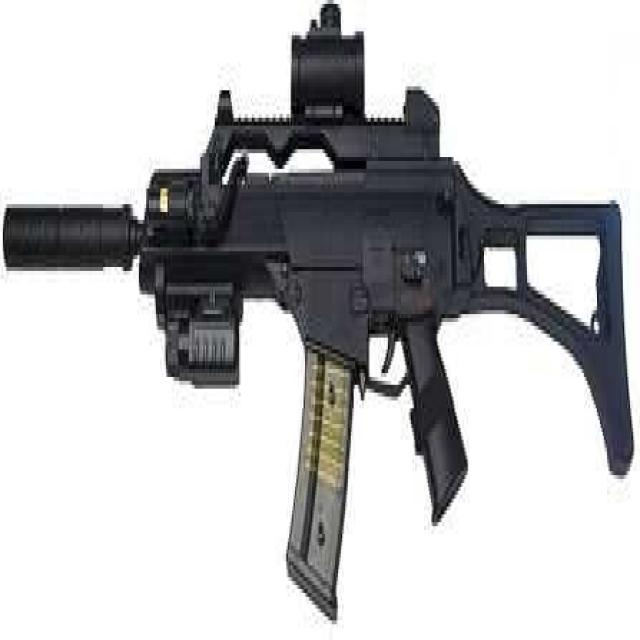RifleTel: (3, 2, 638, 614)
